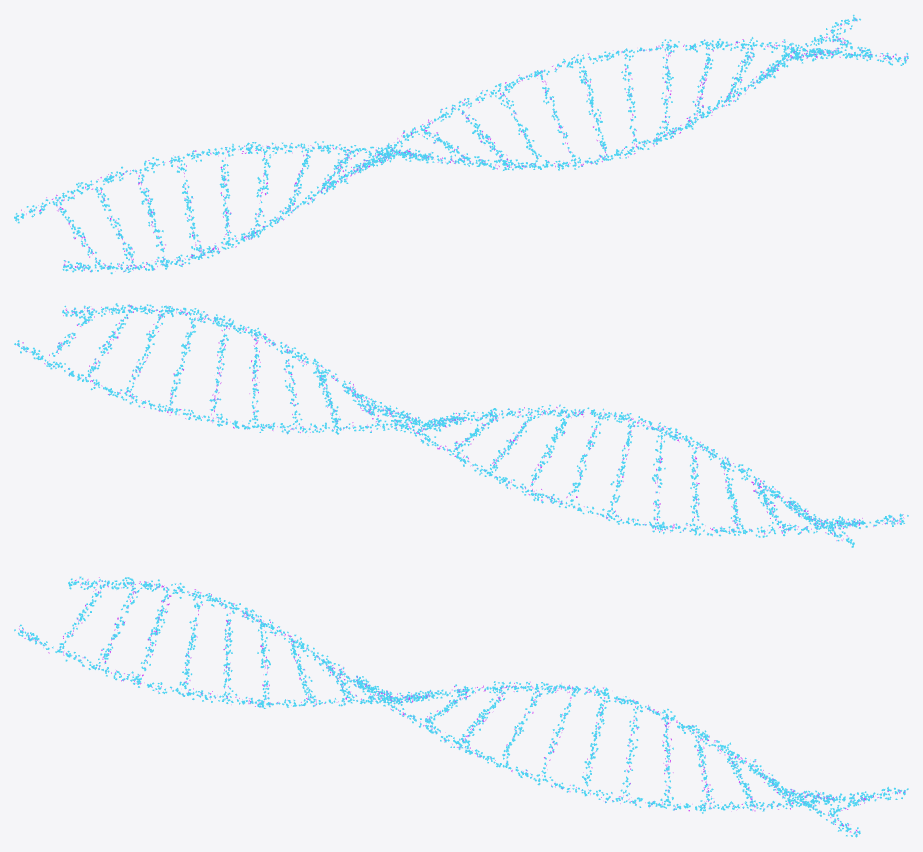
Rendered from dna.glb.
3 views of the same model, one above another, from view 1: azimuth 30°, elevation 25°; view 2: azimuth 150°, elevation 25°; view 3: azimuth 330°, elevation 25° (orthographic).
Parts seen in each view (by area): view 1: Sphere.3514, Sphere.3514_Particle_1_0.001, Sphere.3514_Particle_1_0.002; view 2: Sphere.3514, Sphere.3514_Particle_1_0.001, Sphere.3514_Particle_1_0.002; view 3: Sphere.3514, Sphere.3514_Particle_1_0.001, Sphere.3514_Particle_1_0.002.
Part boxes in pixels (x1=…): Sphere.3514: x1=15, y1=17, x2=908, y2=272; Sphere.3514_Particle_1_0.001: x1=14, y1=14, x2=908, y2=274; Sphere.3514_Particle_1_0.002: x1=22, y1=25, x2=899, y2=272; Sphere.3514: x1=17, y1=304, x2=904, y2=545; Sphere.3514_Particle_1_0.001: x1=14, y1=305, x2=908, y2=547; Sphere.3514_Particle_1_0.002: x1=20, y1=303, x2=901, y2=539; Sphere.3514: x1=18, y1=577, x2=905, y2=837; Sphere.3514_Particle_1_0.001: x1=14, y1=576, x2=908, y2=836; Sphere.3514_Particle_1_0.002: x1=21, y1=580, x2=902, y2=831.
Bounding box in the file's own units: 0.8734 × 0.1018 × 0.1021.
